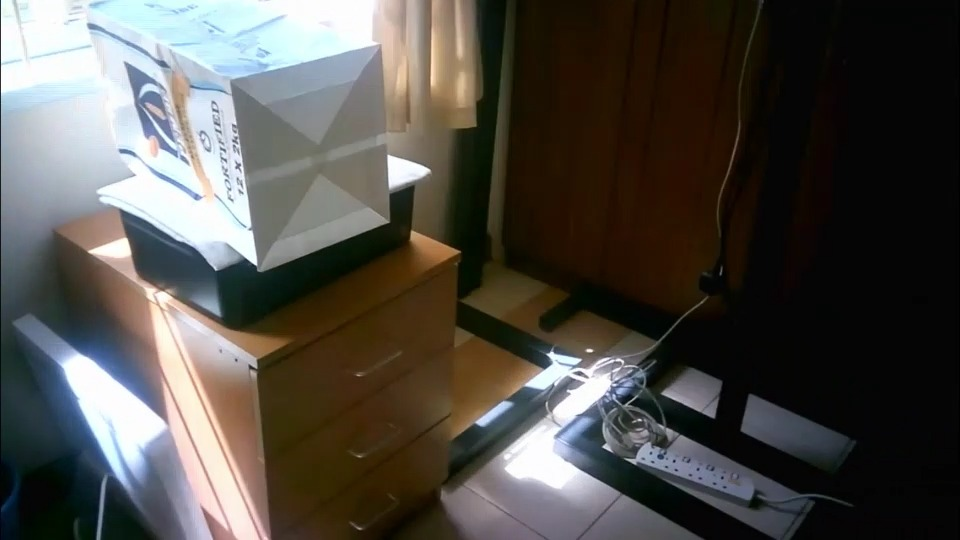wheat_flour_blue_label: (86, 0, 388, 268)
